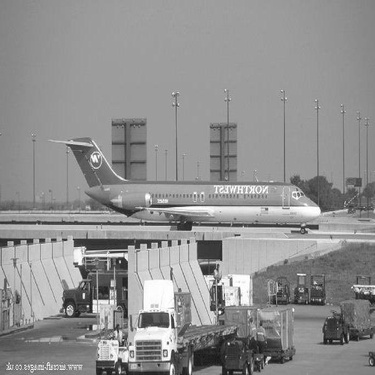airplane: (25, 115, 336, 255)
